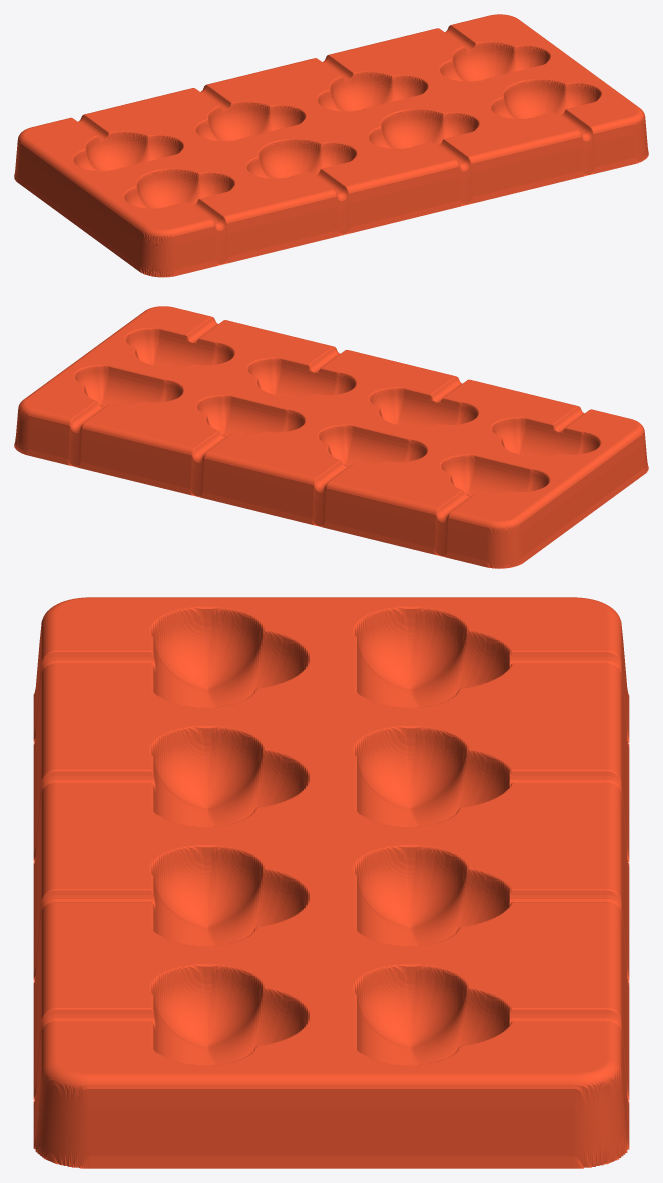
File: mold.glb
The picture shows the model from 3 angles, top to bottom: view 1: azimuth 30°, elevation 25°; view 2: azimuth 150°, elevation 25°; view 3: azimuth 270°, elevation 25°; orthographic projection. The views are drawn at different scales.
Parts seen in each view (by area): view 1: geometry_0; view 2: geometry_0; view 3: geometry_0.
Part boxes in pixels (box(x1,y1,x2,y2)): geometry_0: box(14, 14, 648, 277); geometry_0: box(14, 306, 648, 568); geometry_0: box(33, 597, 629, 1168).
Size of the model in its own units: 0.1907 by 0.0155 by 0.0973.
